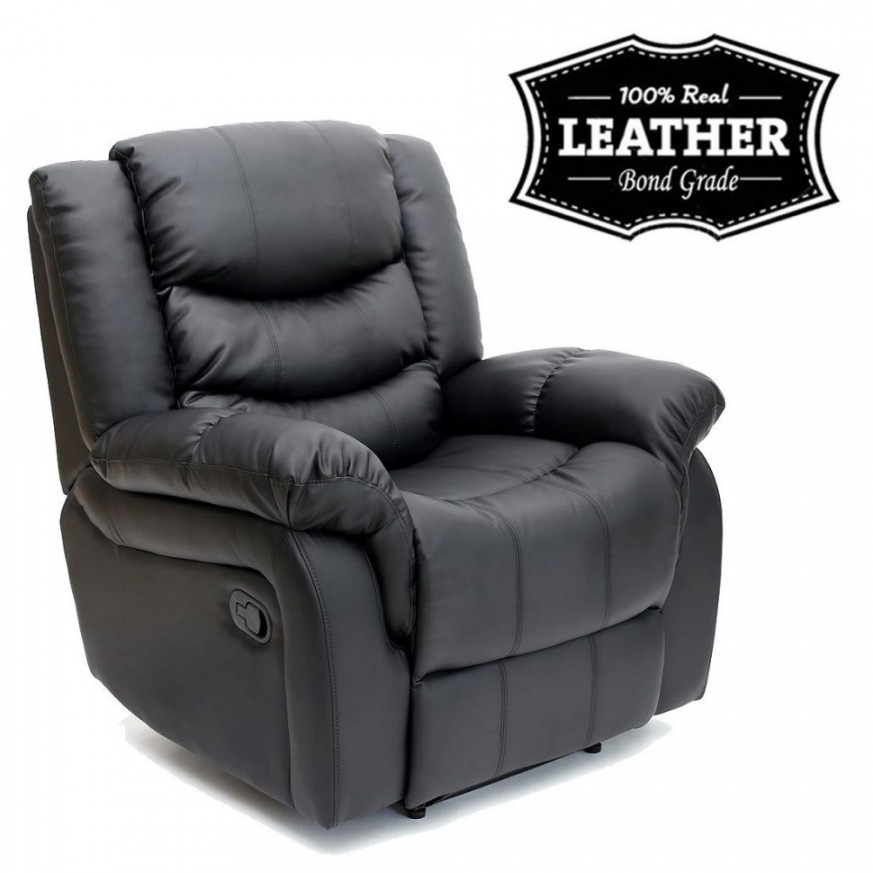chairs: (17, 109, 734, 835)
